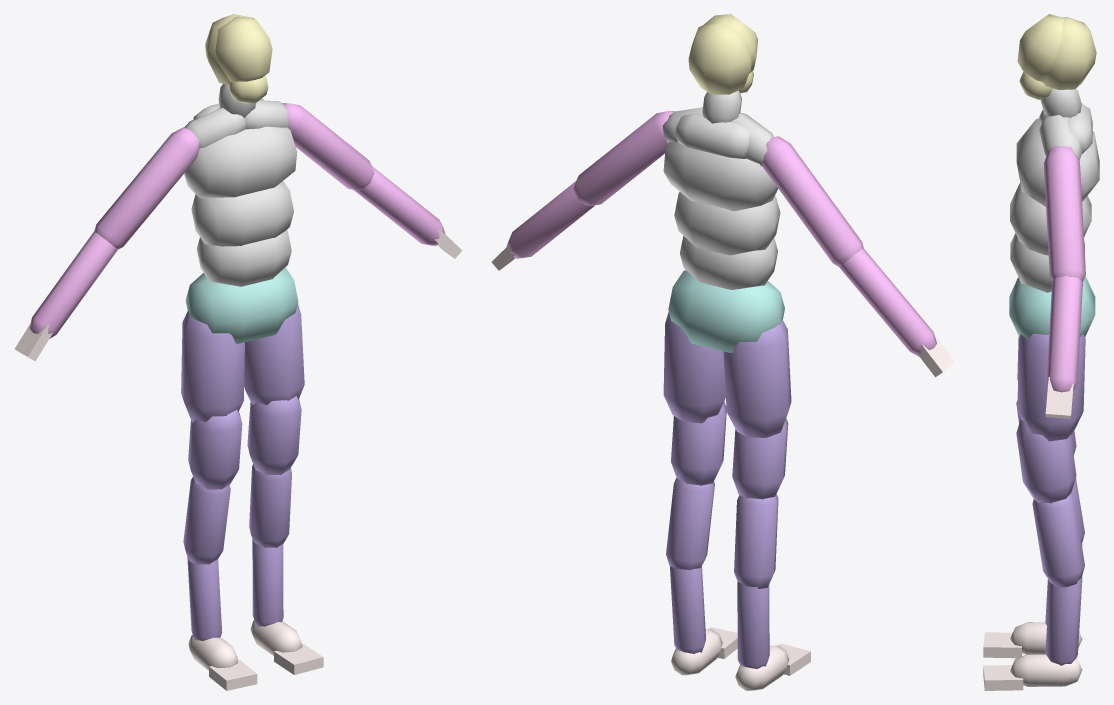
File: CapsuleManNoSkin.fbx
The picture shows the model from 3 angles, left to right: view 1: azimuth 30°, elevation 25°; view 2: azimuth 150°, elevation 25°; view 3: azimuth 270°, elevation 25°; orthographic projection. The views are drawn at different scales.
Visible parts, largest first — view 1: Spine2, Hips, UpperLeg_R, Arm_R, Spine1, UpperLeg_L, Spine, Arm_L, UpperLeg1_L, UpperLeg1_R, ForeArm_R, Leg_R (+14 smaller); view 2: Hips, UpperLeg_R, Spine2, Arm_R, UpperLeg_L, Spine1, Arm_L, ForeArm_R, Leg_R, Head, Leg_L, UpperLeg1_L (+12 smaller); view 3: Arm_L, UpperLeg_L, Leg_L, ForeArm_L, UpperLeg1_L, Spine2, Leg1_L, Hips, Head, Head1, Spine1, Foot_L (+10 smaller).
Boxes of the visible parts, x1,y1,x2,y2 form: Spine2: [184, 126, 297, 198]; Hips: [185, 267, 298, 343]; UpperLeg_R: [181, 310, 244, 422]; Arm_R: [94, 127, 199, 249]; Spine1: [191, 181, 293, 246]; UpperLeg_L: [244, 305, 304, 405]; Spine: [197, 230, 291, 286]; Arm_L: [282, 103, 374, 190]; UpperLeg1_L: [247, 396, 301, 474]; UpperLeg1_R: [188, 410, 242, 489]; ForeArm_R: [29, 231, 117, 338]; Leg_R: [183, 477, 230, 564]; Hips: [668, 270, 784, 352]; UpperLeg_R: [723, 319, 791, 437]; Spine2: [663, 142, 778, 211]; Arm_R: [762, 136, 863, 267]; UpperLeg_L: [663, 312, 725, 423]; Spine1: [674, 192, 780, 255]; Arm_L: [573, 111, 674, 205]; ForeArm_R: [839, 248, 936, 356]; Leg_R: [734, 494, 778, 588]; Head: [688, 23, 752, 94]; Leg_L: [666, 478, 714, 569]; UpperLeg1_L: [671, 401, 726, 485]; Arm_L: [1043, 146, 1085, 281]; UpperLeg_L: [1017, 333, 1085, 441]; Leg_L: [1032, 493, 1084, 587]; ForeArm_L: [1046, 275, 1082, 392]; UpperLeg1_L: [1016, 418, 1076, 503]; Spine2: [1016, 118, 1099, 206]; Leg1_L: [1045, 577, 1082, 665]; Hips: [1009, 276, 1095, 339]; Head: [1042, 17, 1096, 89]; Head1: [1017, 14, 1063, 82]; Spine1: [1010, 182, 1091, 255]; Foot_L: [1010, 654, 1082, 686].
Size of the model in its own units: 1.29 by 1.81 by 0.2924.
